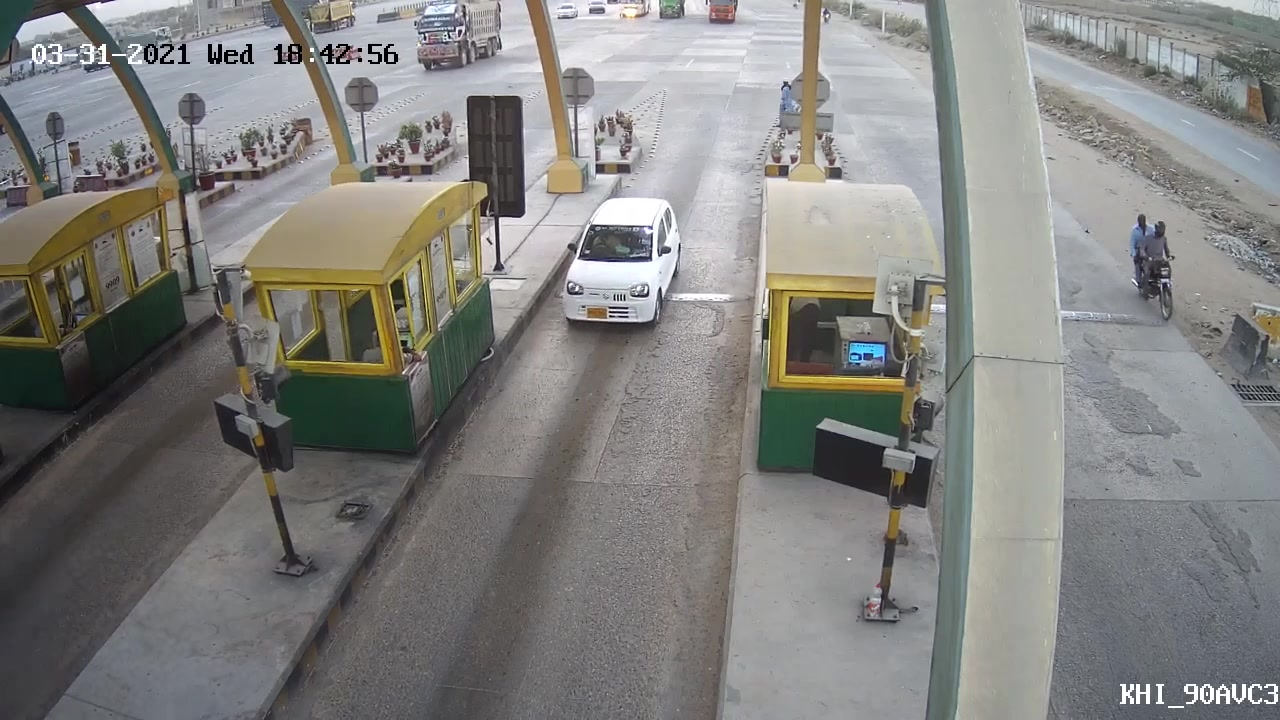F1: (555, 191, 683, 336)
